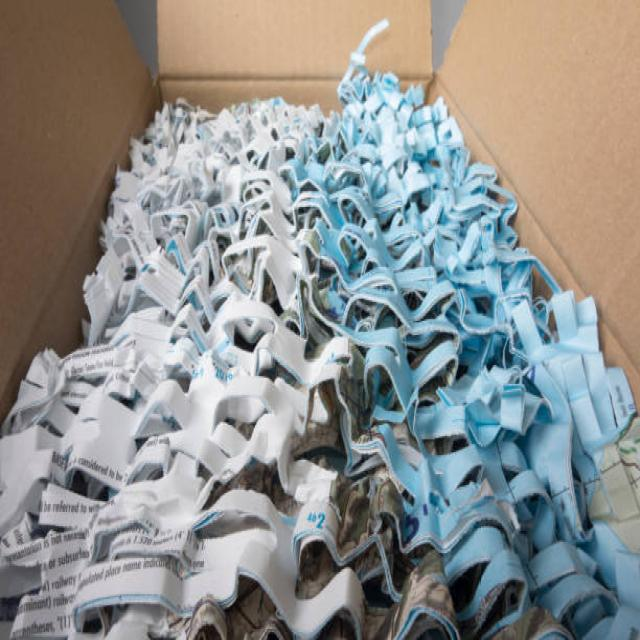paper: (155, 98, 537, 563), (50, 482, 370, 623), (332, 228, 468, 308)
